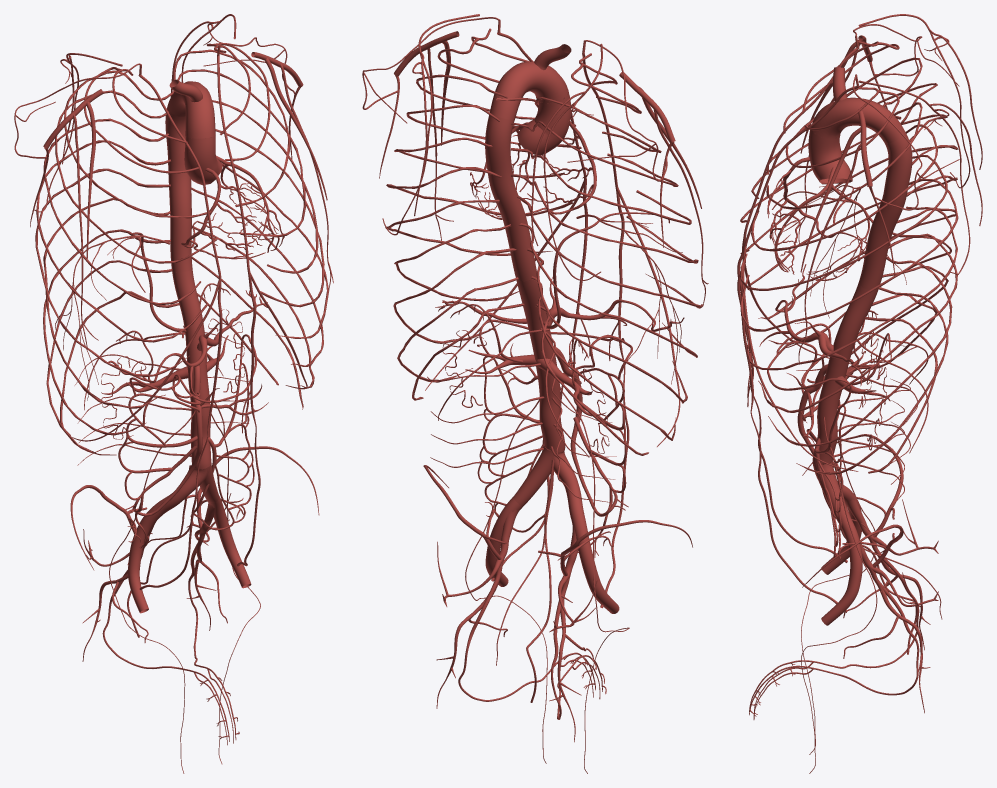
File: arterial-trunk-balanced.glb
3 renders of one model, left to right at view 1: azimuth 30°, elevation 25°; view 2: azimuth 150°, elevation 25°; view 3: azimuth 270°, elevation 25°, orthographic. The views are drawn at different scales.
Visible parts, largest first — view 1: za.posterior-intercostal-arteries-r, za.posterior-intercostal-arteries-l, za.thoracic-aorta, za.abdominal-aorta, za.aortic-arch, za.superior-mesenteric-artery, za.ascending-aorta, za.external-iliac-artery-r, za.external-iliac-artery-l, za.right-coronary-artery, za.lumbar-arteries-r, za.common-iliac-artery-r (+11 smaller); view 2: za.posterior-intercostal-arteries-r, za.posterior-intercostal-arteries-l, za.thoracic-aorta, za.abdominal-aorta, za.aortic-arch, za.ascending-aorta, za.external-iliac-artery-r, za.superior-mesenteric-artery, za.lumbar-arteries-l, za.common-iliac-artery-l, za.right-coronary-artery, za.common-iliac-artery-r (+11 smaller); view 3: za.posterior-intercostal-arteries-l, za.posterior-intercostal-arteries-r, za.thoracic-aorta, za.abdominal-aorta, za.aortic-arch, za.ascending-aorta, za.external-iliac-artery-l, za.right-coronary-artery, za.superior-mesenteric-artery, za.common-iliac-artery-l, za.lumbar-arteries-l, za.anterior-inferior-pancreaticoduodenal-artery (+22 smaller).
Part boxes in pixels (box(x1,y1,x2,y2)): za.posterior-intercostal-arteries-r: box(35, 70, 216, 455); za.posterior-intercostal-arteries-l: box(173, 49, 329, 409); za.thoracic-aorta: box(165, 105, 192, 272); za.abdominal-aorta: box(172, 269, 211, 469); za.aortic-arch: box(168, 81, 215, 138); za.superior-mesenteric-artery: box(123, 365, 268, 516); za.ascending-aorta: box(184, 135, 222, 185); za.external-iliac-artery-r: box(128, 506, 161, 613); za.external-iliac-artery-l: box(208, 496, 251, 588); za.right-coronary-artery: box(181, 168, 265, 259); za.lumbar-arteries-r: box(74, 354, 191, 465); za.common-iliac-artery-r: box(153, 465, 210, 515); za.posterior-intercostal-arteries-r: box(496, 97, 703, 455); za.posterior-intercostal-arteries-l: box(385, 74, 581, 400); za.thoracic-aorta: box(485, 115, 536, 281); za.abdominal-aorta: box(516, 275, 565, 452); za.aortic-arch: box(489, 61, 568, 120); za.ascending-aorta: box(517, 91, 571, 155); za.external-iliac-artery-r: box(571, 513, 619, 613); za.superior-mesenteric-artery: box(501, 338, 628, 516); za.lumbar-arteries-l: box(427, 363, 544, 467); za.common-iliac-artery-l: box(513, 446, 564, 506); za.right-coronary-artery: box(523, 121, 596, 214); za.common-iliac-artery-r: box(551, 451, 584, 517); za.posterior-intercostal-arteries-l: box(740, 102, 958, 474); za.posterior-intercostal-arteries-r: box(740, 57, 957, 370); za.thoracic-aorta: box(858, 132, 912, 290); za.abdominal-aorta: box(812, 283, 878, 464); za.aortic-arch: box(811, 97, 905, 143); za.ascending-aorta: box(808, 130, 852, 184); za.external-iliac-artery-l: box(821, 518, 862, 625); za.right-coronary-artery: box(767, 157, 860, 274); za.superior-mesenteric-artery: box(787, 364, 841, 481); za.common-iliac-artery-l: box(813, 462, 850, 523); za.lumbar-arteries-l: box(836, 374, 917, 506); za.anterior-inferior-pancreaticoduodenal-artery: box(767, 323, 832, 390).
Size of the model in its own units: 0.2878 by 0.7082 by 0.2209.
